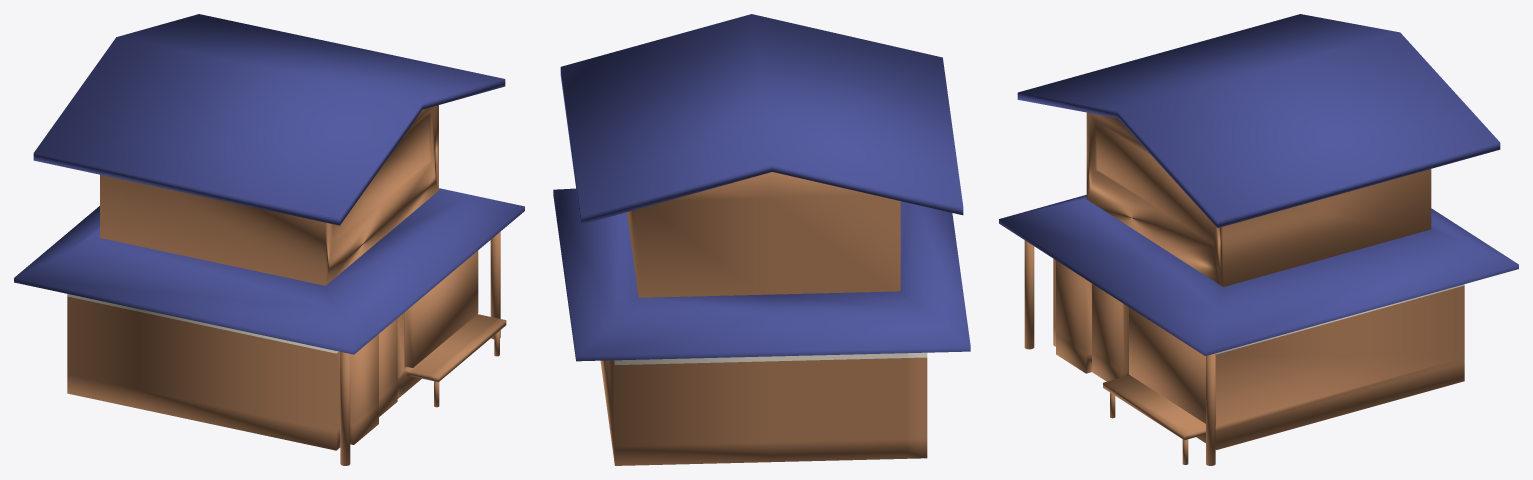
File: 048_古民家003.glb
3 views of the same model, side by side, from view 1: azimuth 30°, elevation 25°; view 2: azimuth 150°, elevation 25°; view 3: azimuth 270°, elevation 25° (orthographic). The views are drawn at different scales.
Parts seen in each view (by area): view 1: 立方体002_1, 立方体002_3, 立方体002_4, 立方体002, 立方体002_2; view 2: 立方体002_1, 立方体002_3, 立方体002_2; view 3: 立方体002_1, 立方体002_3, 立方体002_4, 立方体002.
Boxes of the visible parts, <box> form: 立方体002_1: <box>14,14,524,354</box>; 立方体002_3: <box>67,105,506,450</box>; 立方体002_4: <box>332,114,478,444</box>; 立方体002: <box>340,232,500,465</box>; 立方体002_2: <box>67,294,338,353</box>; 立方体002_1: <box>553,14,970,361</box>; 立方体002_3: <box>600,172,927,465</box>; 立方体002_2: <box>614,352,927,365</box>; 立方体002_1: <box>999,14,1518,355</box>; 立方体002_3: <box>1053,112,1464,449</box>; 立方体002_4: <box>1056,123,1214,423</box>; 立方体002: <box>1024,240,1215,465</box>.
Size of the model in its own units: 3.96 by 2.53 by 3.96.
